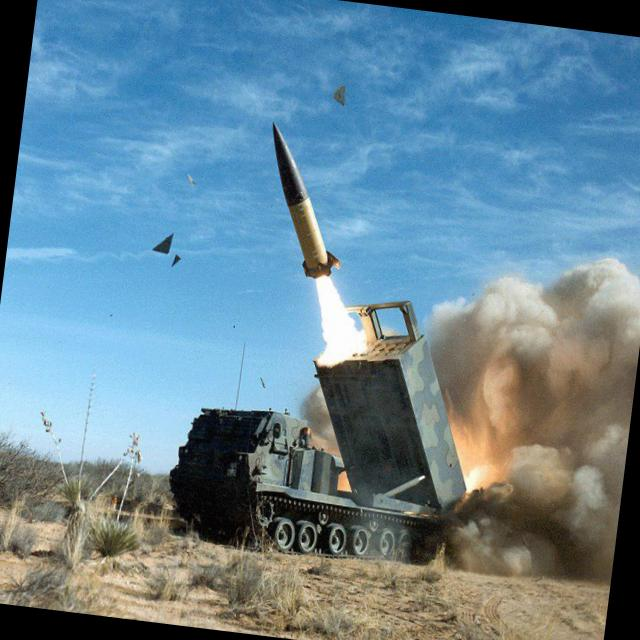rocket: (242, 118, 375, 351)
